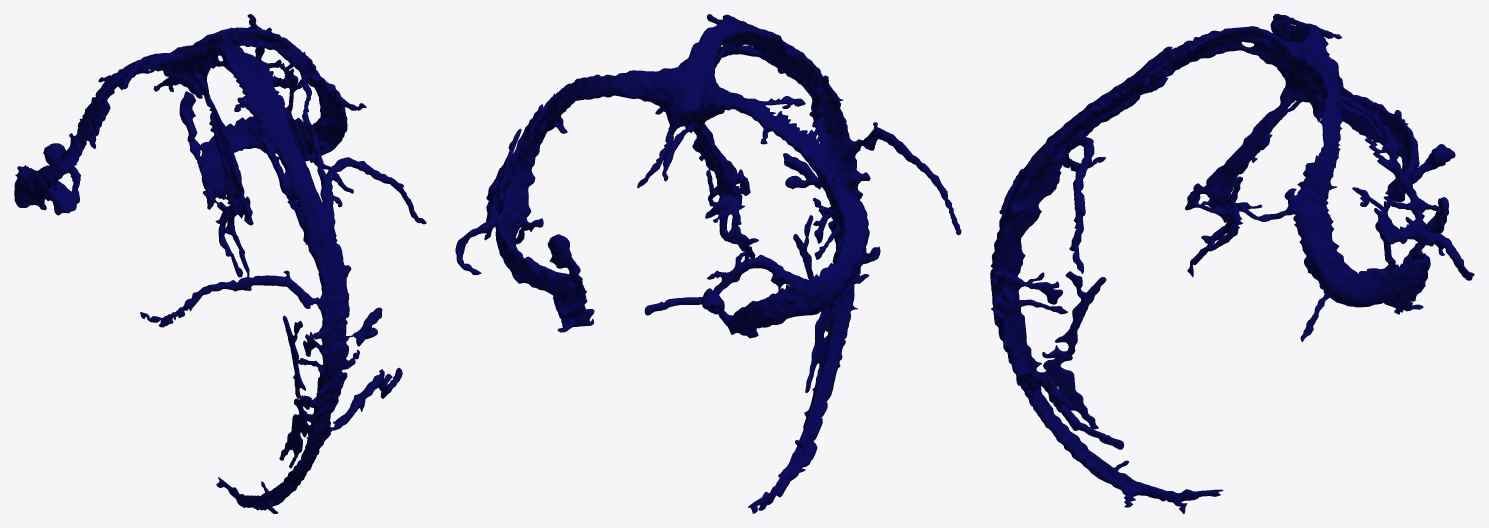
File: Venous_sinus.obj
3 renders of one model, left to right at view 1: azimuth 30°, elevation 25°; view 2: azimuth 150°, elevation 25°; view 3: azimuth 270°, elevation 25°, orthographic. The views are drawn at different scales.
Visible parts, largest first — view 1: grp1; view 2: grp1; view 3: grp1.
Boxes of the visible parts, bbox=[...] form: grp1: bbox=[14, 14, 426, 513]; grp1: bbox=[455, 14, 961, 513]; grp1: bbox=[990, 14, 1474, 513].
Size of the model in its own units: 121 by 161 by 143.
